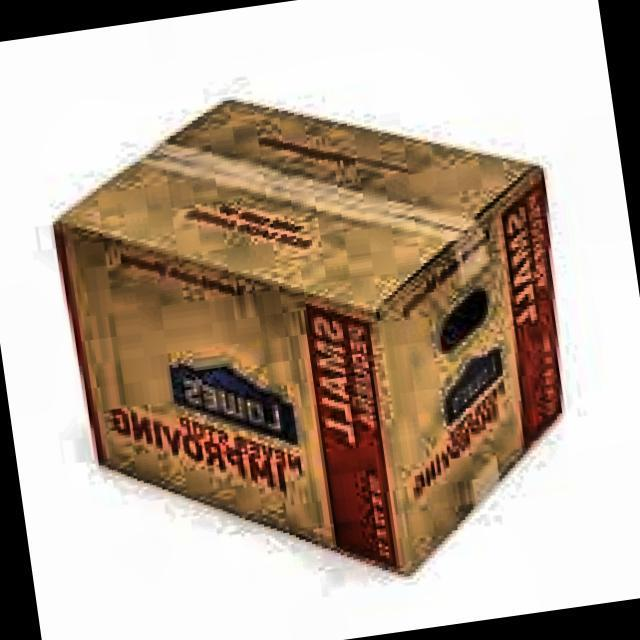cardboard: (38, 52, 600, 619)
